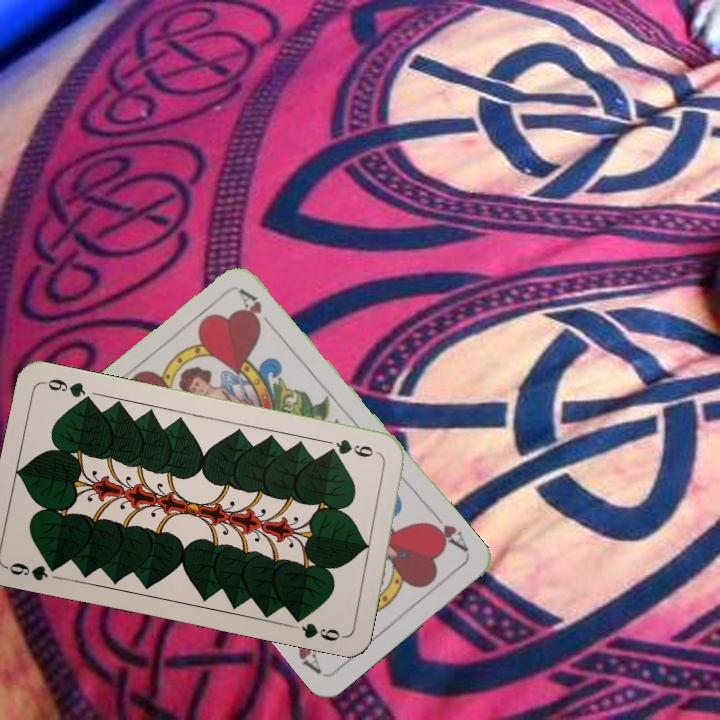G9: (2, 559, 63, 584), (323, 435, 383, 460)
HA: (421, 507, 471, 555)
